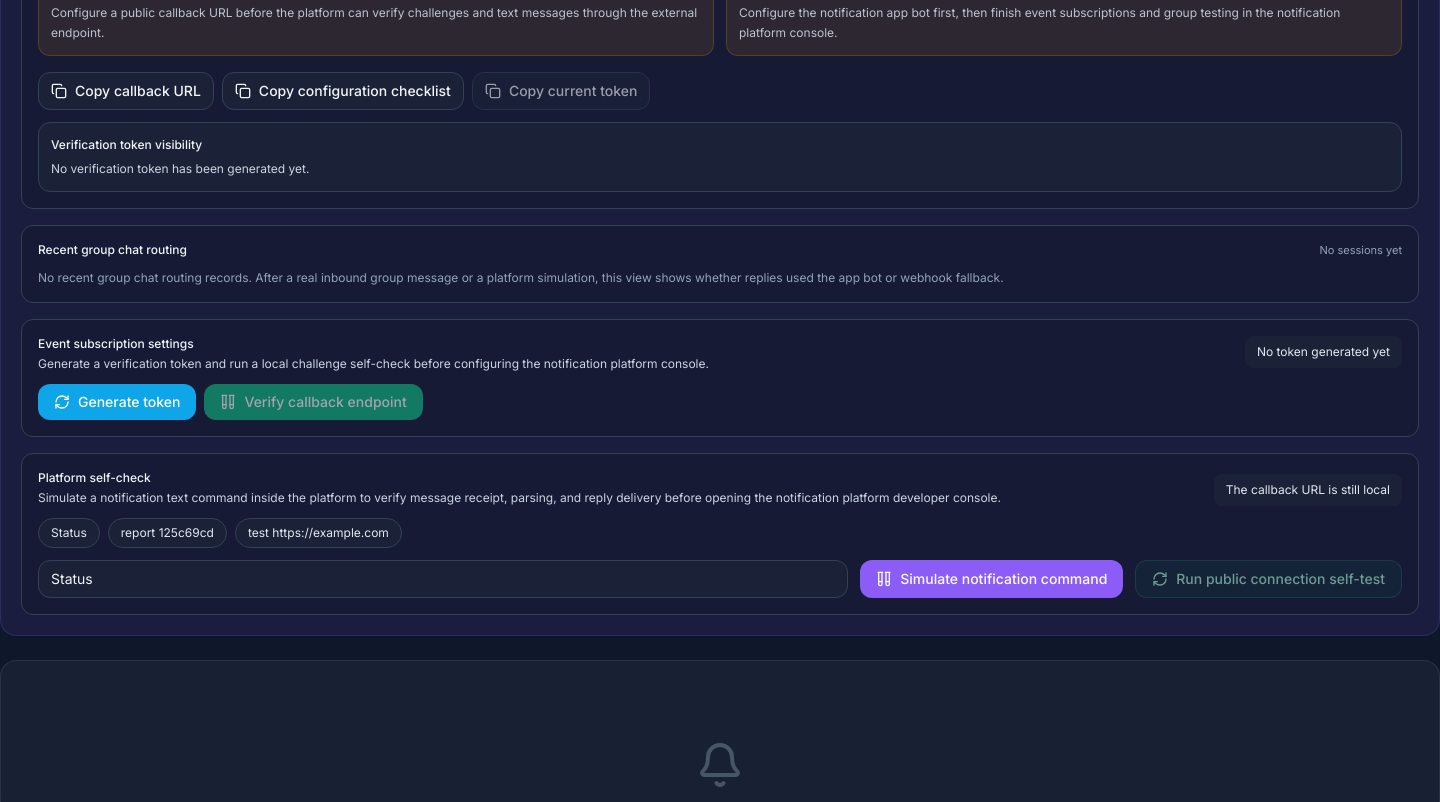
Scenario: NotificationPage › should configure verification token and run subscription self check
This screenshot has width=1440, height=802.
(page scrolled)
Expected: the text "Event subscription settings" is shown, [38,336,194,351]
Click the button "Generate token" at [117, 402], box [38,384,196,420]
(page scrolled)
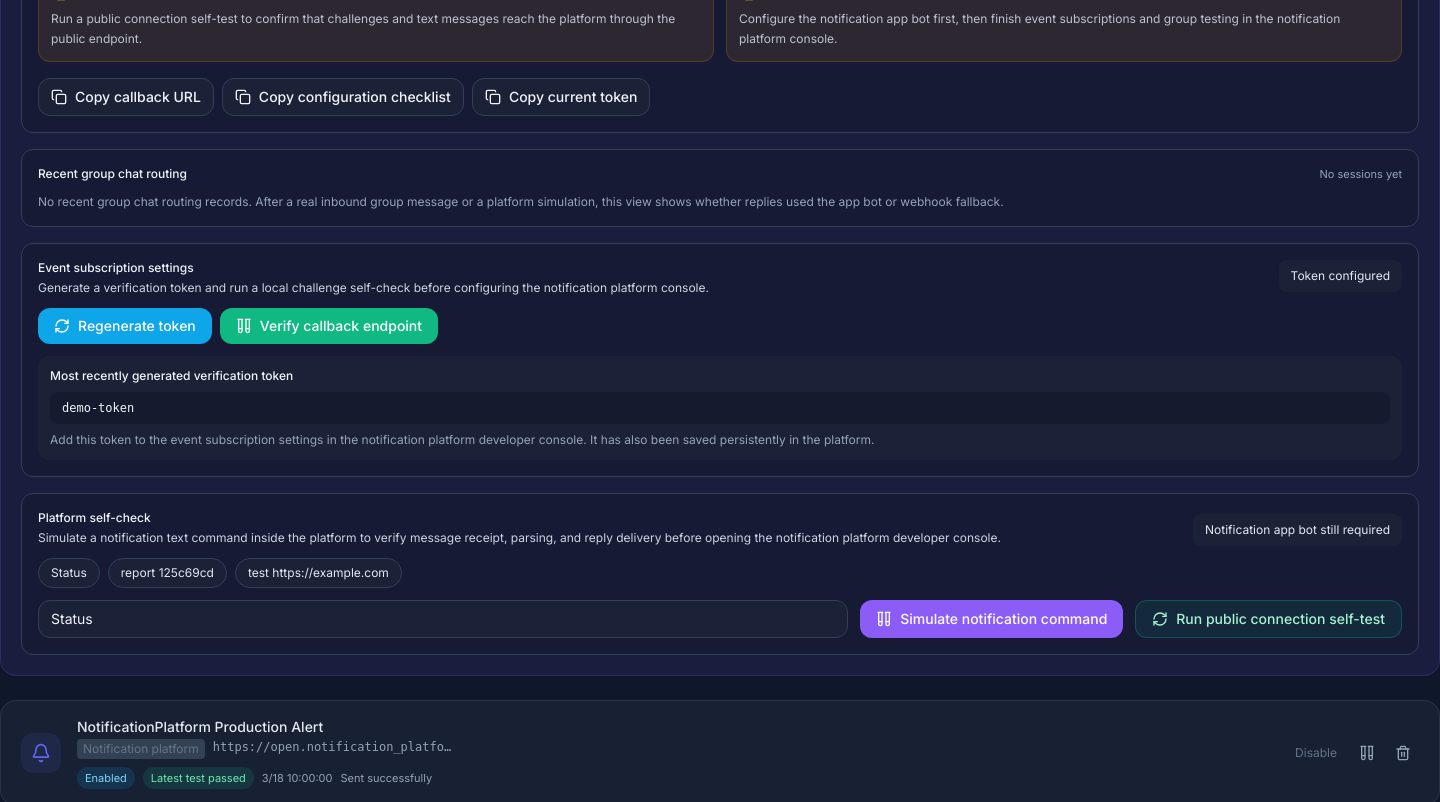
Expected: the text "Most recently generated verification token" is shown, [50,368,293,383]
Expected: the text "demo-token" is shown, [50,392,1390,424]
Click the button "Verify callback endpoint" at [329, 326], box [220,308,438,344]
(page scrolled)
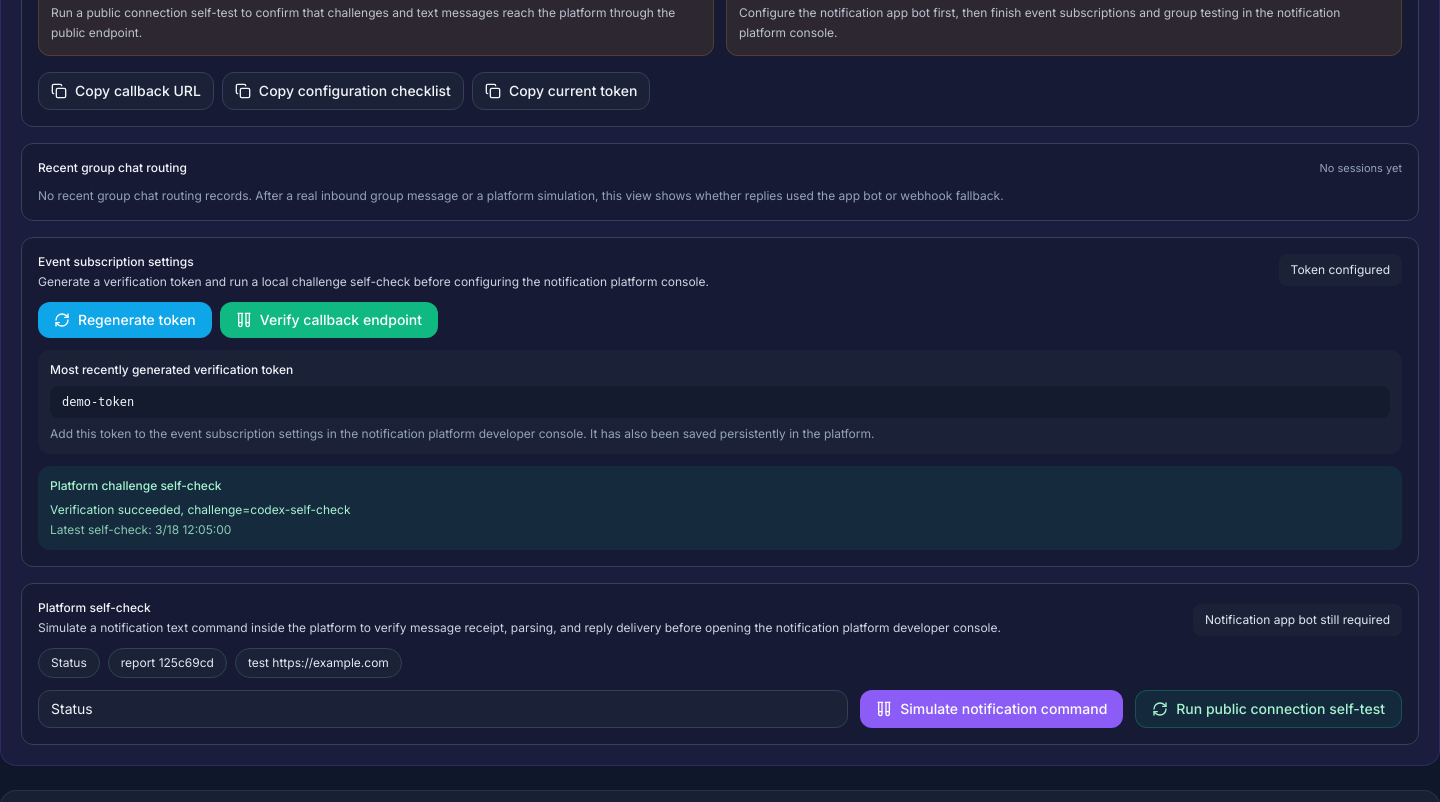
Expected: the text "Verification succeeded, challenge=codex-self-check" is shown, [50,502,350,517]
Click the button "Copy current token" at [561, 91], box [472,72,650,110]
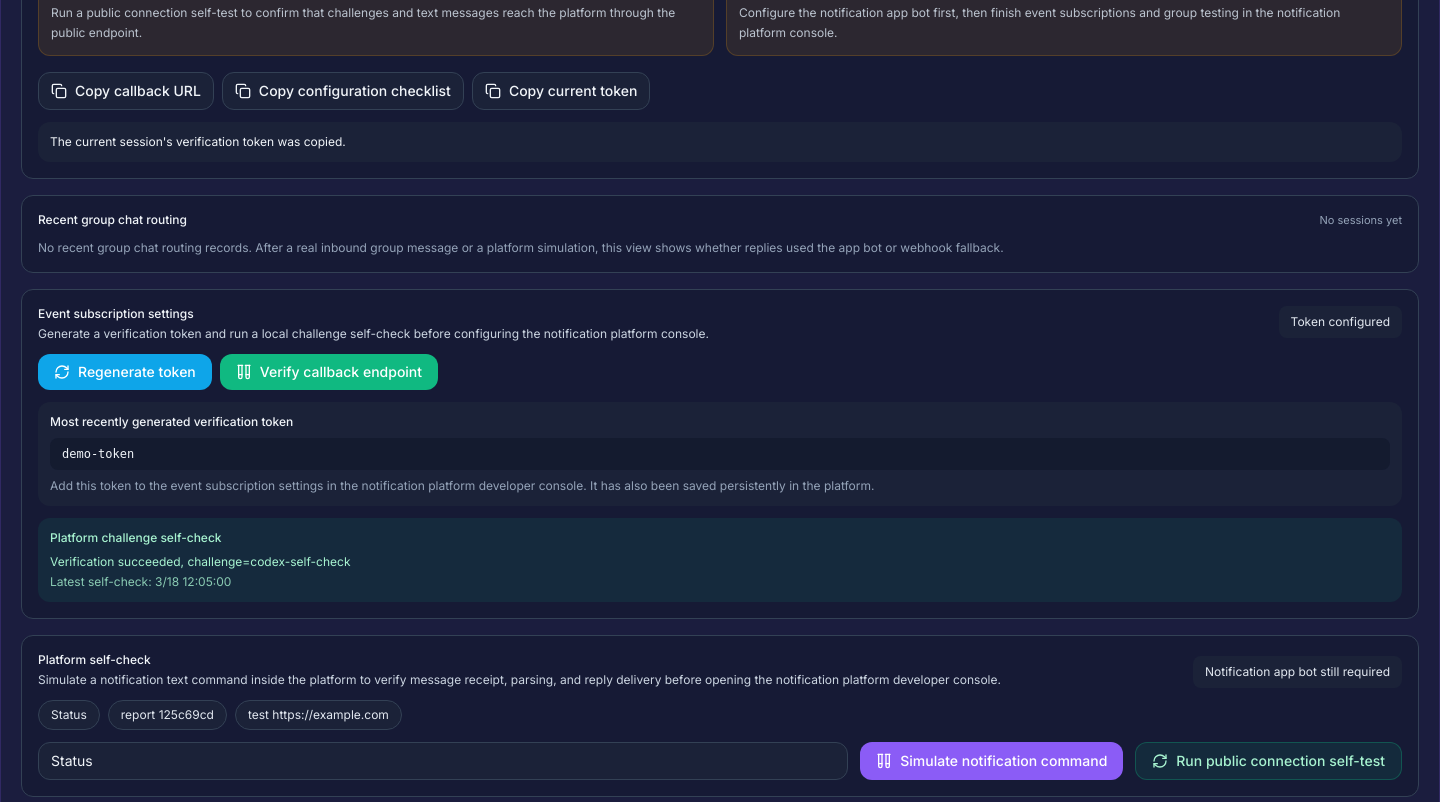
Expected: the text with test id "chatops-copy-feedback" reads "The current session's verification token was copied.", [50,134,346,149]
